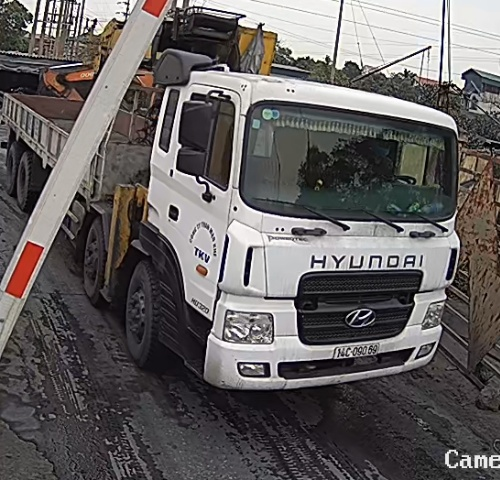vehicle plate: (330, 340, 387, 363)
